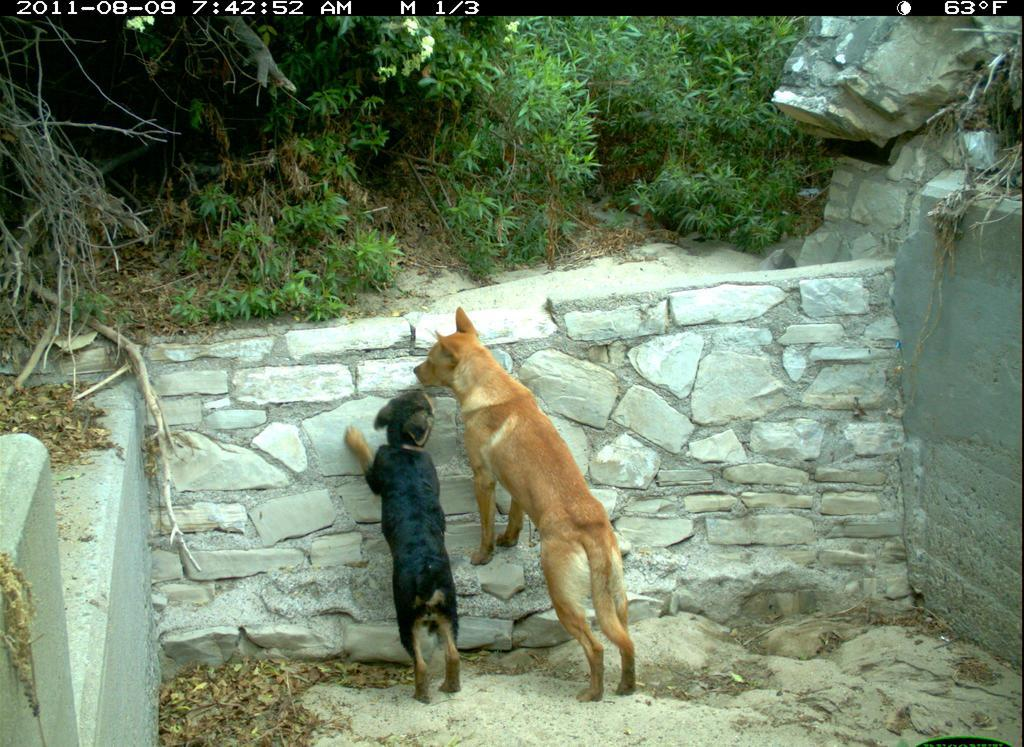dog: (404, 310, 638, 698), (338, 367, 481, 703)
